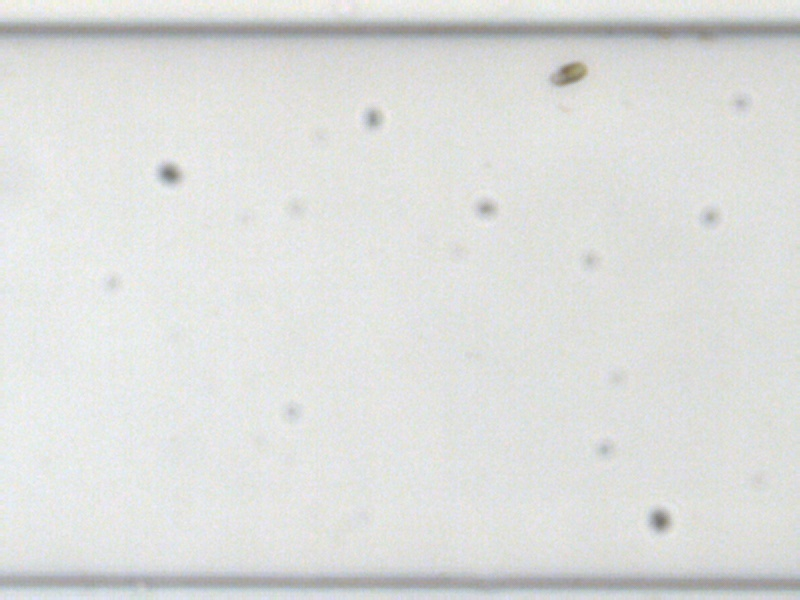Dunaliella salina: (548, 58, 589, 88)
